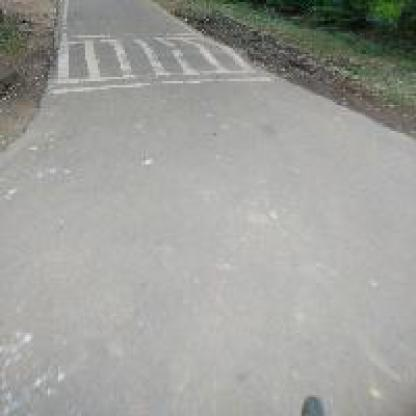Speed Bump: (54, 32, 260, 97)
